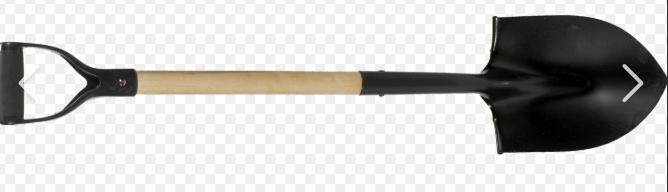PELLE: (0, 11, 666, 192)
